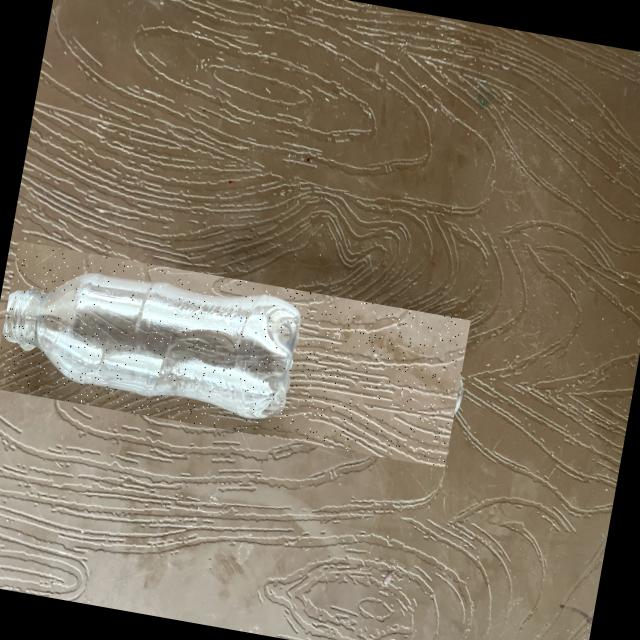PET_ClearBottle: (0, 240, 469, 467)
